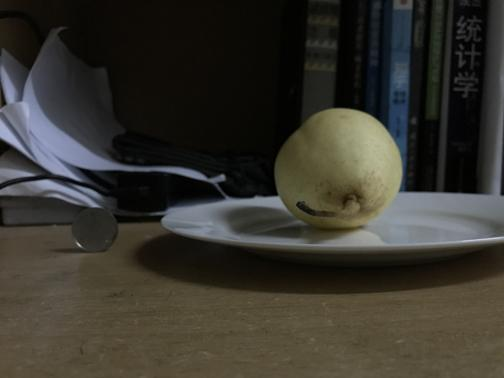coin: (70, 207, 119, 254)
pear: (278, 109, 403, 227)
